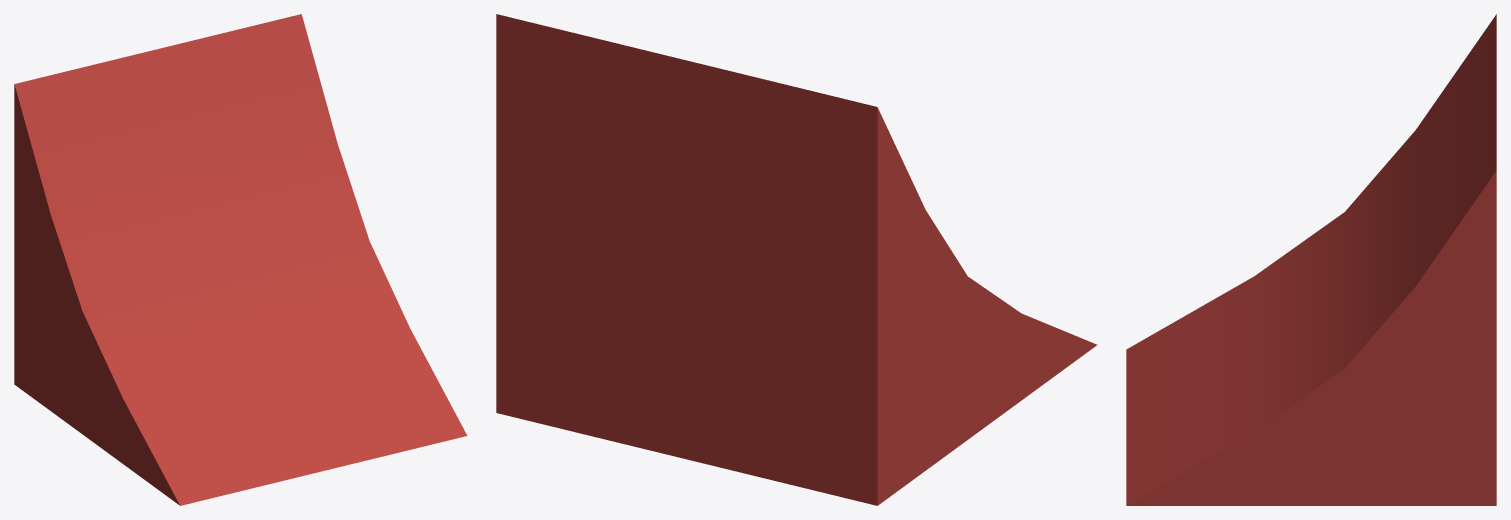
The model's file is gusset_lod1.glb.
The picture shows the model from 3 angles, left to right: view 1: azimuth 30°, elevation 25°; view 2: azimuth 150°, elevation 25°; view 3: azimuth 270°, elevation 25°; orthographic projection. The views are drawn at different scales.
Parts seen in each view (by area): view 1: gusset_lod1; view 2: gusset_lod1; view 3: gusset_lod1.
Boxes of the visible parts, <box> form: gusset_lod1: <box>14,14,467,505</box>; gusset_lod1: <box>496,14,1097,505</box>; gusset_lod1: <box>1126,14,1496,505</box>.
Bounding box in the file's own units: 1 × 1 × 1.
